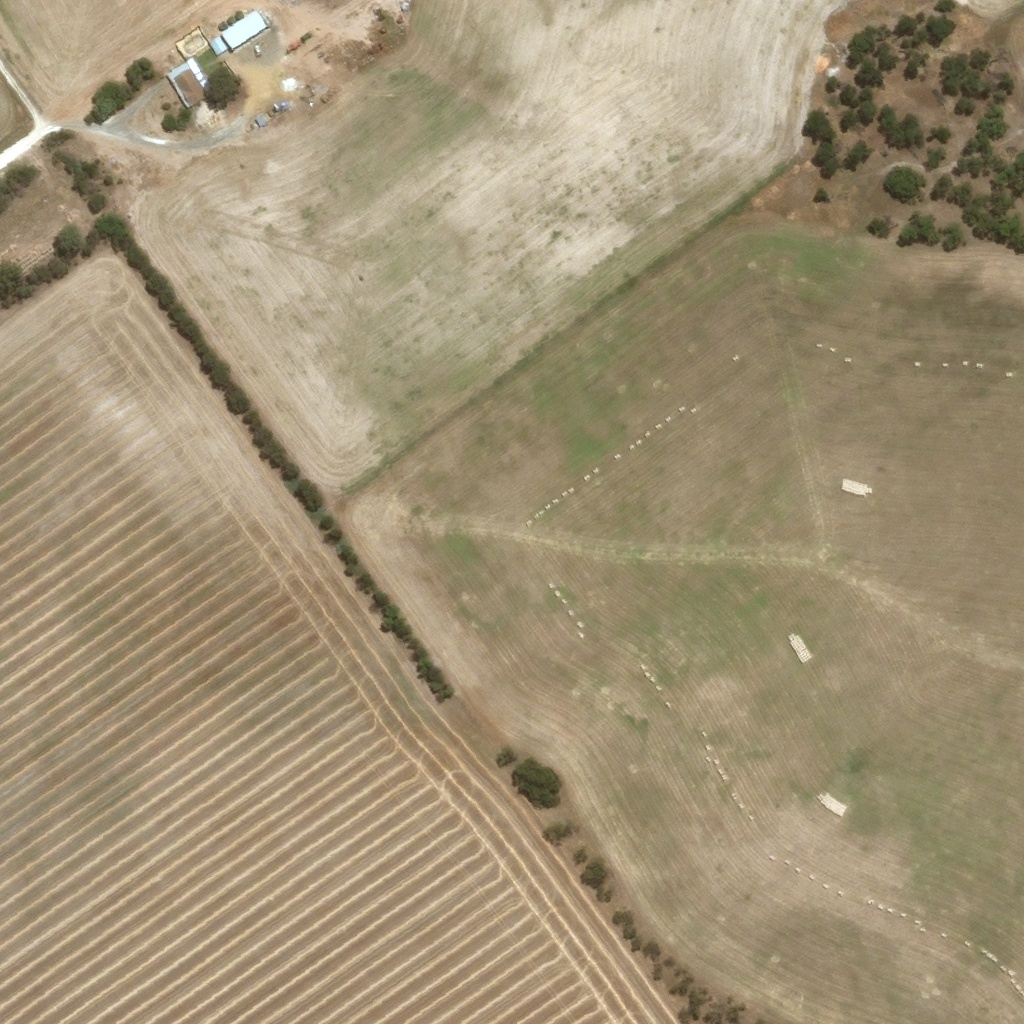0 no-damage: (164, 54, 215, 110), (219, 7, 269, 47), (205, 32, 228, 54), (253, 112, 267, 126)
